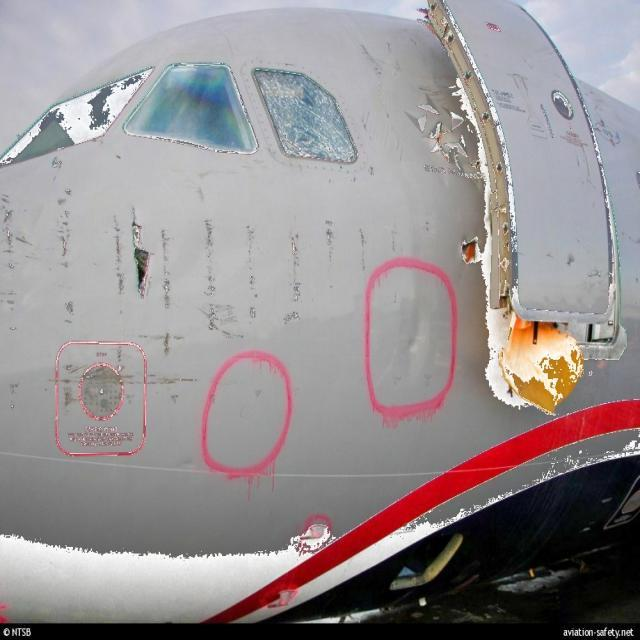crack: (128, 204, 154, 302), (456, 228, 484, 272)
dent: (392, 296, 434, 369)
